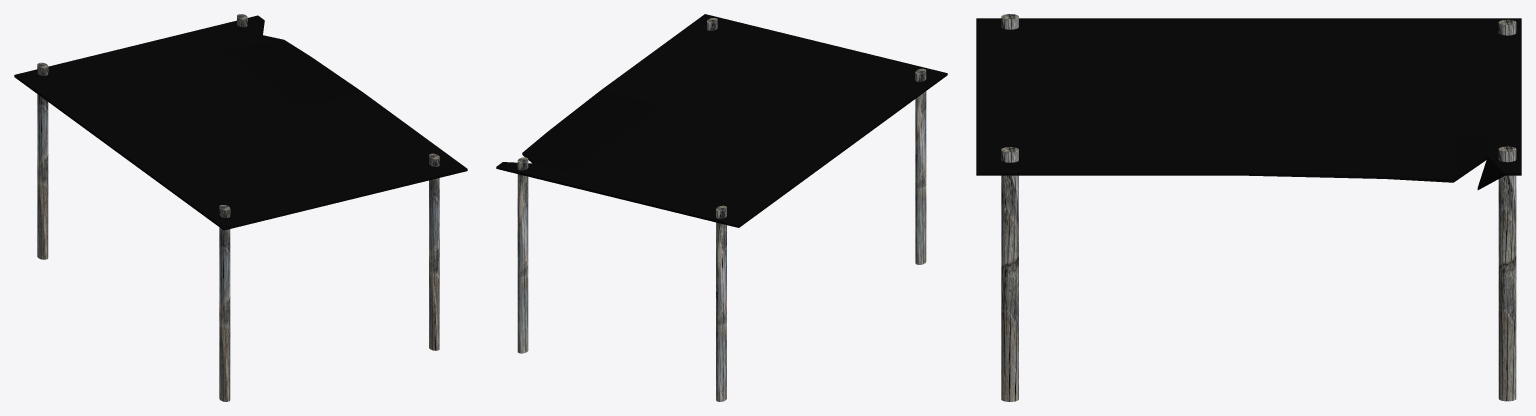
File: tenda 2 rasgada Menoari.fbx
3 renders of one model, left to right at view 1: azimuth 30°, elevation 25°; view 2: azimuth 150°, elevation 25°; view 3: azimuth 270°, elevation 25°, orthographic. The views are drawn at different scales.
Visible parts, largest first — view 1: Cube, Cilindro.005, Cilindro.004, Cilindro.002; view 2: Cube, Cilindro.003, Cilindro.005, Cilindro.004; view 3: Cube, Cilindro.003, Cilindro.002.
Part boxes in pixels (box(x1,y1,x2,y2)): Cube: box(14, 15, 467, 230); Cilindro.005: box(219, 205, 230, 401); Cilindro.004: box(37, 62, 48, 259); Cilindro.002: box(429, 153, 439, 350); Cube: box(496, 14, 947, 227); Cilindro.003: box(517, 157, 528, 353); Cilindro.005: box(915, 68, 926, 264); Cilindro.004: box(716, 205, 726, 401); Cube: box(976, 18, 1521, 189); Cilindro.003: box(1498, 146, 1516, 401); Cilindro.002: box(1001, 147, 1018, 401).
Bounding box in the file's own units: 341 × 256 × 508.
